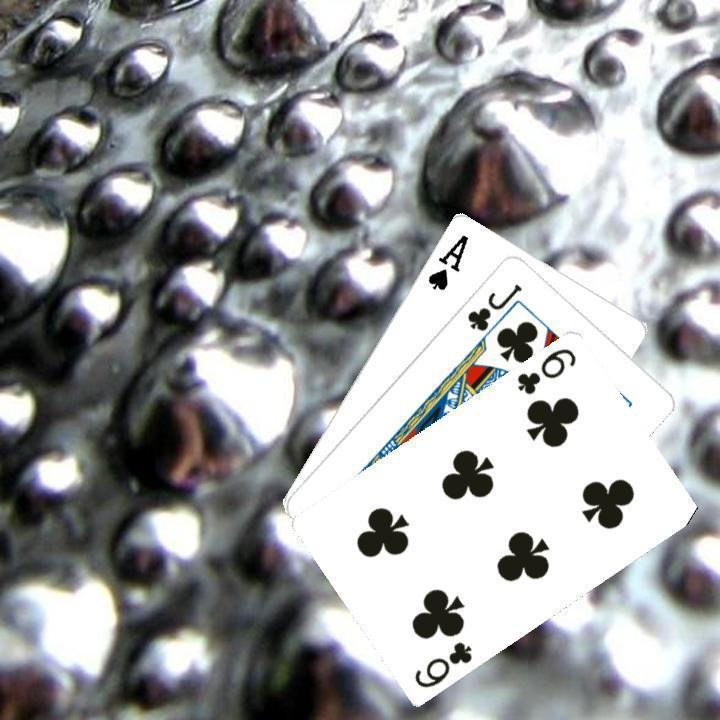6: (512, 343, 579, 396), (410, 636, 475, 690)
A: (423, 229, 470, 292)
J: (462, 279, 524, 333)
